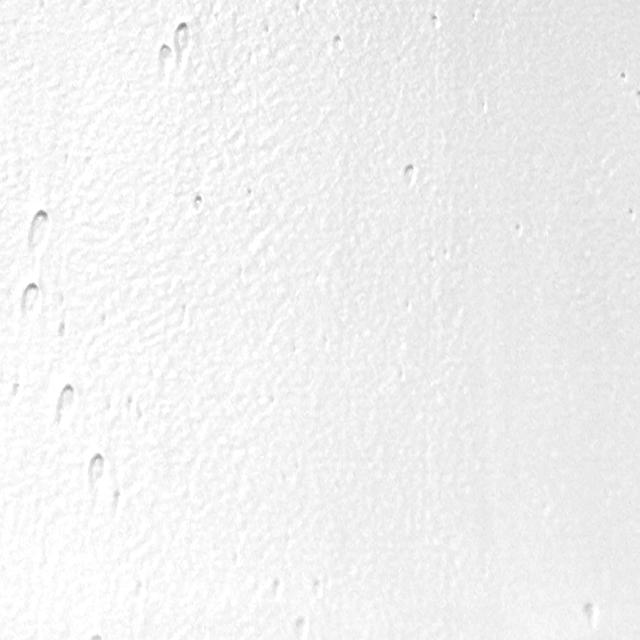pin holes: (25, 209, 56, 256), (172, 22, 196, 62), (55, 383, 79, 422), (19, 280, 43, 316), (85, 450, 109, 486), (579, 597, 601, 631), (154, 43, 174, 73), (399, 162, 420, 189), (290, 614, 311, 639), (267, 577, 287, 602), (189, 192, 208, 217), (111, 488, 127, 516), (310, 576, 327, 600), (331, 35, 346, 56), (56, 320, 70, 341), (11, 380, 25, 400), (431, 14, 444, 33), (125, 396, 137, 416), (511, 221, 525, 238), (618, 68, 630, 86), (626, 206, 638, 222), (243, 186, 254, 200), (90, 630, 106, 639)
